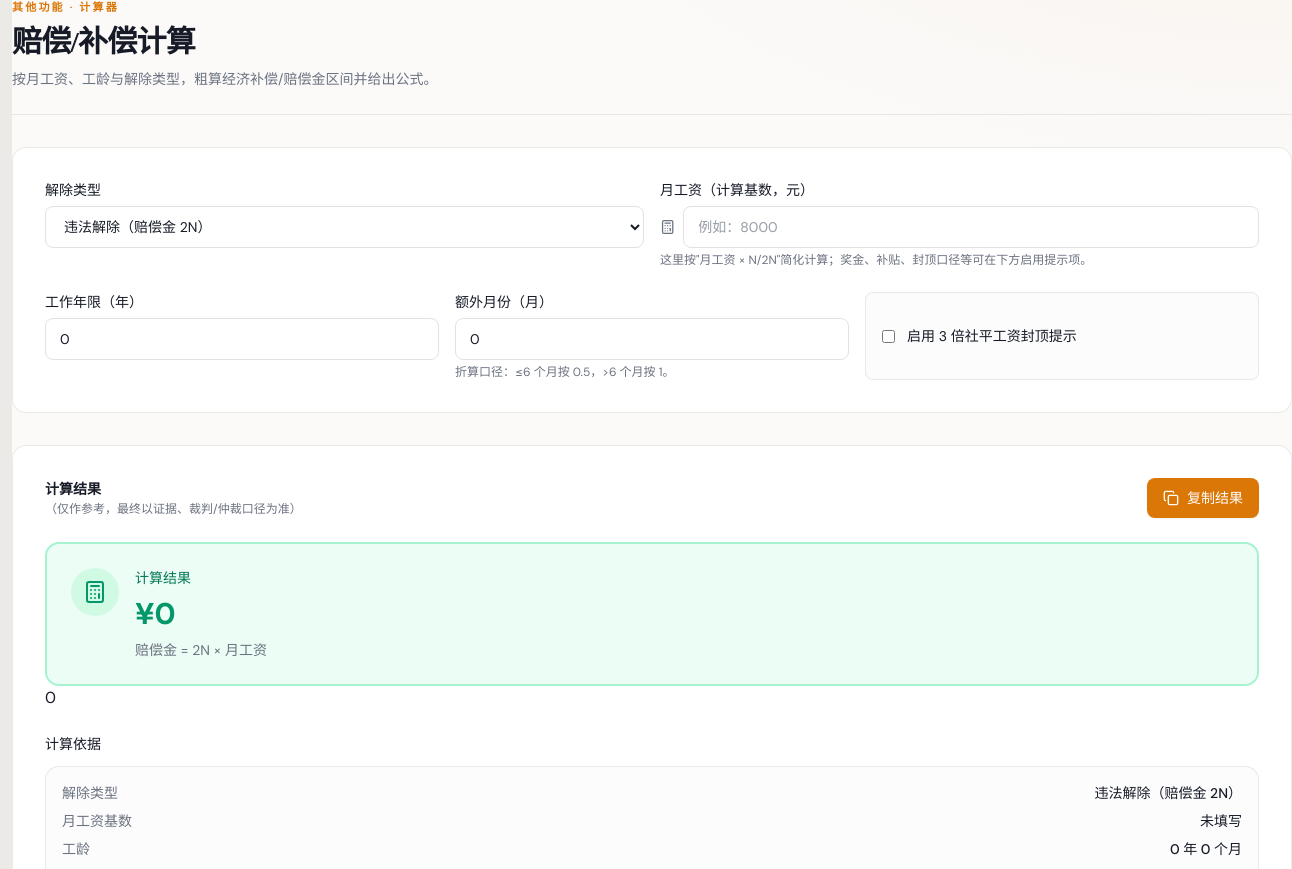
Test: CompensationCalculator › shows warning when N exceeds 12 years
The width and height of the screenshot is (1292, 869).
Type "10000" into the field with placeholder "例如：8000". click: {"x": 971, "y": 227}
box: left=683, top=206, right=1259, bottom=248
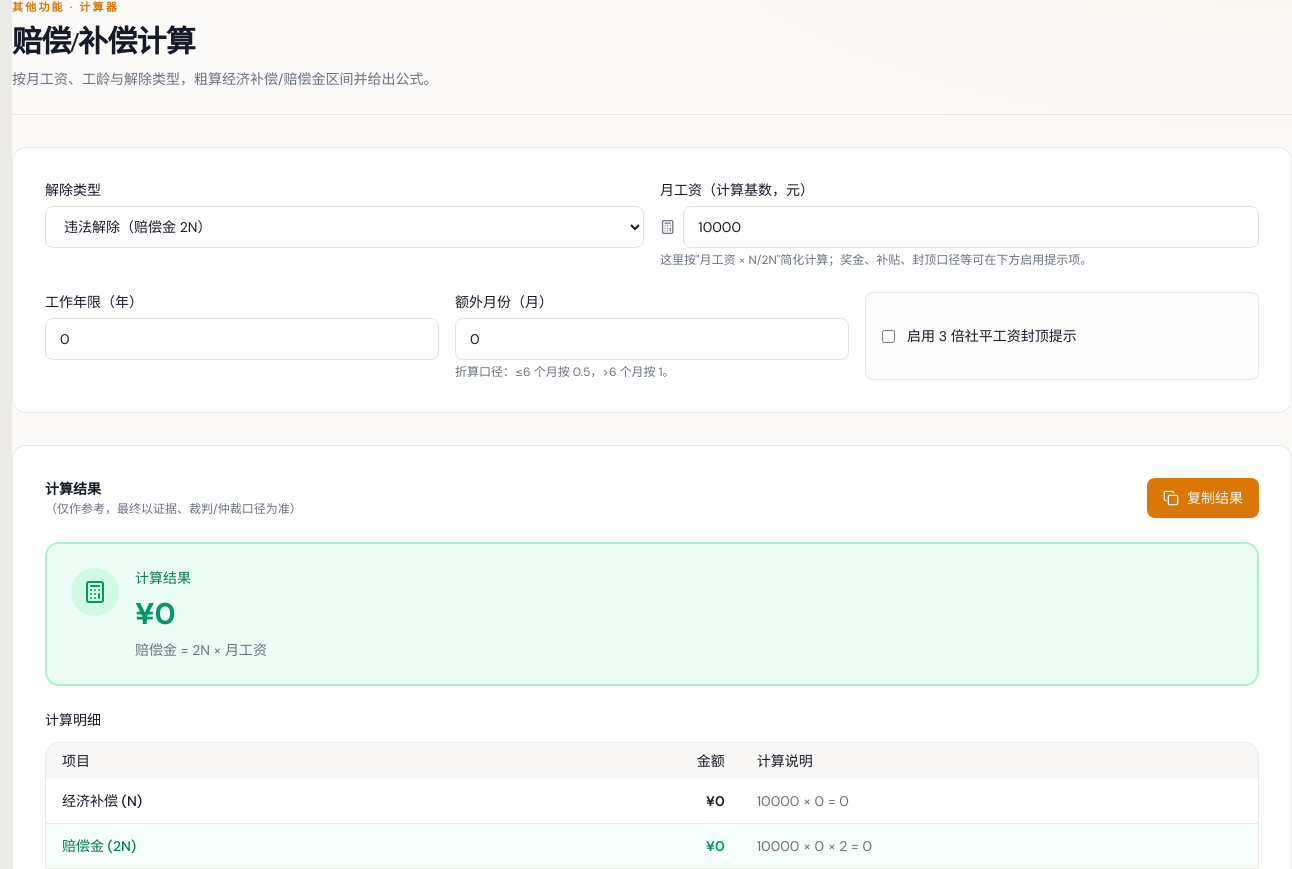
Replace the text in the field below "工作年限（年）" with "15". click: {"x": 242, "y": 339}
box: left=45, top=318, right=439, bottom=360
(page scrolled)
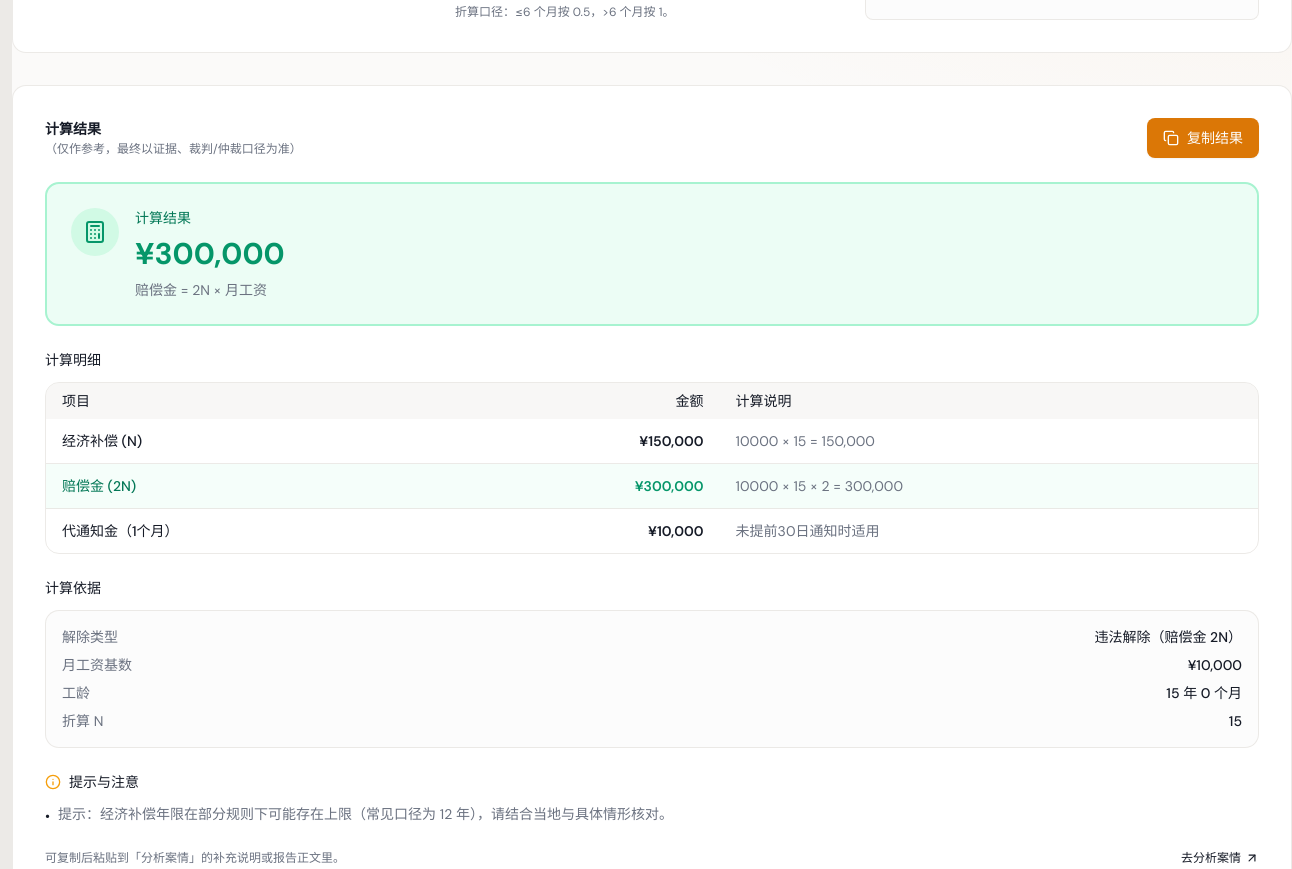
Expected: the text "提示：经济补偿年限在部分规则下可能存在上限（常见口径为 12 年），请结合当地与具体情形核对。" is shown, left=58, top=804, right=673, bottom=824
